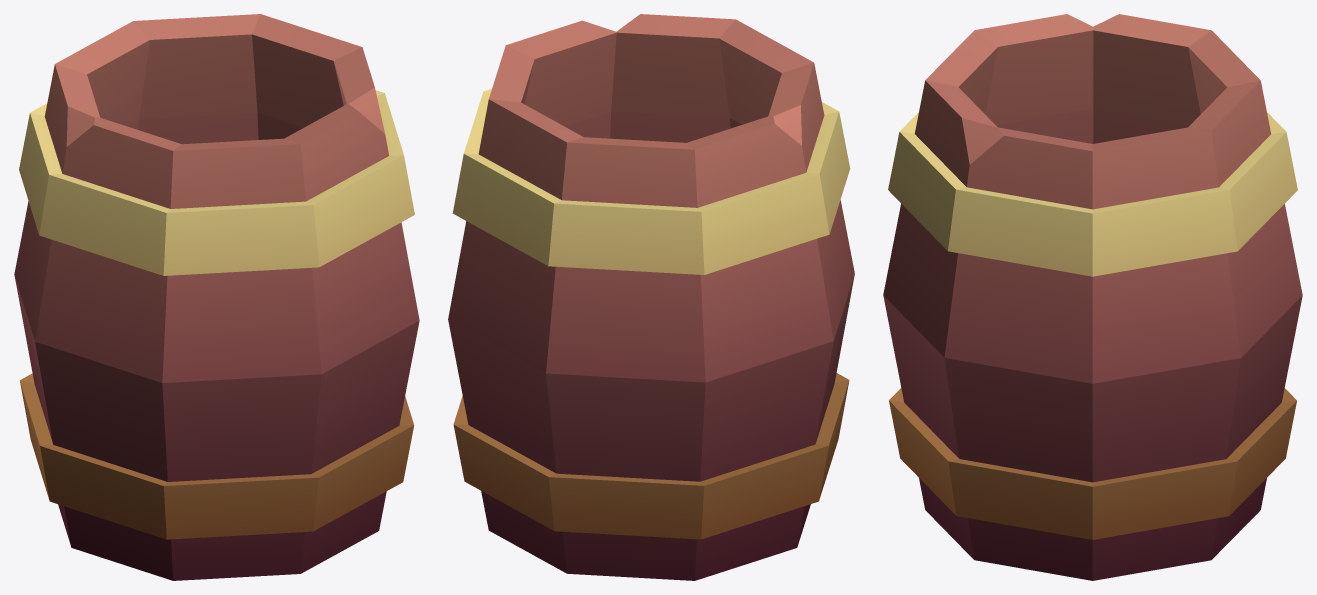
Rendered from EmptyBarel.fbx.
3 views of the same model, side by side, from view 1: azimuth 30°, elevation 25°; view 2: azimuth 150°, elevation 25°; view 3: azimuth 270°, elevation 25° (orthographic).
Visible parts, largest first — view 1: OpenBarel_Mesh; view 2: OpenBarel_Mesh; view 3: OpenBarel_Mesh.
Part boxes in pixels (left/top/right/bottom): OpenBarel_Mesh: left=14, top=14, right=419, bottom=580; OpenBarel_Mesh: left=448, top=14, right=854, bottom=580; OpenBarel_Mesh: left=883, top=14, right=1302, bottom=580.
Bounding box in the file's own units: 268 × 303 × 268.
